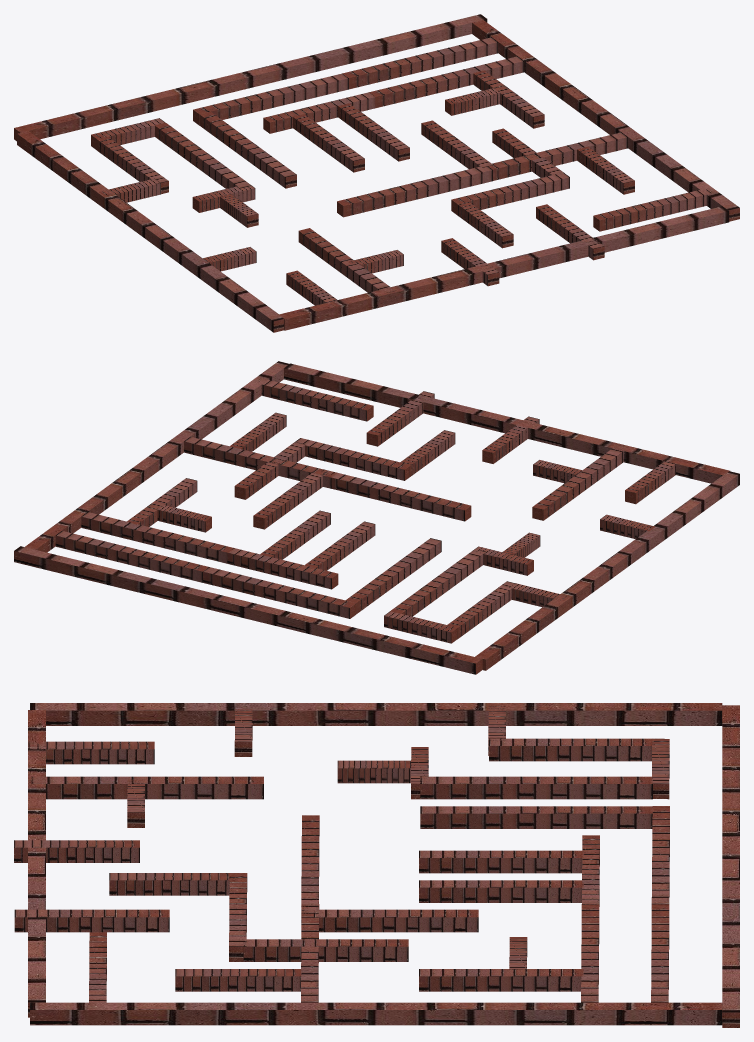
File: maze.obj
3 views of the same model, one above another, from view 1: azimuth 30°, elevation 25°; view 2: azimuth 150°, elevation 25°; view 3: azimuth 270°, elevation 25° (orthographic). The views are drawn at different scales.
Visible parts, largest first — view 1: Cube.005_Cube.007, Cube.002_Cube.007, Cube.003_Cube.007, Cube.001_Cube.007, Cube.018_Cube.007, Cube.004_Cube.007, Cube.006_Cube.007, Cube.008_Cube.007, Cube.007, Cube.012_Cube.007, Cube.014_Cube.007, Cube.013_Cube.007 (+21 smaller); view 2: Cube.005_Cube.007, Cube.002_Cube.007, Cube.003_Cube.007, Cube.001_Cube.007, Cube.006_Cube.007, Cube.004_Cube.007, Cube.008_Cube.007, Cube.018_Cube.007, Cube.012_Cube.007, Cube.014_Cube.007, Cube.030_Cube.007, Cube.009_Cube.007 (+21 smaller); view 3: Cube.001_Cube.007, Cube.003_Cube.007, Cube.005_Cube.007, Cube.022_Cube.007, Cube.007, Cube.030_Cube.007, Cube.002_Cube.007, Cube.021_Cube.007, Cube.024_Cube.007, Cube.017_Cube.007, Cube.019_Cube.007, Cube.010_Cube.007 (+21 smaller).
Boxes of the visible parts, left/top/right/bottom form: Cube.005_Cube.007: left=14, top=14, right=487, bottom=141; Cube.002_Cube.007: left=278, top=206, right=729, bottom=330; Cube.003_Cube.007: left=17, top=131, right=283, bottom=332; Cube.001_Cube.007: left=472, top=20, right=739, bottom=221; Cube.018_Cube.007: left=337, top=166, right=492, bottom=217; Cube.004_Cube.007: left=342, top=37, right=498, bottom=89; Cube.006_Cube.007: left=193, top=73, right=348, bottom=125; Cube.008_Cube.007: left=368, top=56, right=524, bottom=108; Cube.007: left=199, top=111, right=296, bottom=188; Cube.012_Cube.007: left=472, top=132, right=627, bottom=180; Cube.014_Cube.007: left=593, top=189, right=711, bottom=231; Cube.013_Cube.007: left=451, top=172, right=569, bottom=213; Cube.005_Cube.007: left=14, top=546, right=482, bottom=674; Cube.002_Cube.007: left=284, top=363, right=729, bottom=483; Cube.003_Cube.007: left=475, top=471, right=739, bottom=670; Cube.001_Cube.007: left=25, top=361, right=288, bottom=552; Cube.006_Cube.007: left=203, top=567, right=356, bottom=618; Cube.004_Cube.007: left=55, top=531, right=208, bottom=582; Cube.008_Cube.007: left=81, top=512, right=233, bottom=563; Cube.018_Cube.007: left=321, top=469, right=471, bottom=521; Cube.012_Cube.007: left=184, top=436, right=336, bottom=488; Cube.014_Cube.007: left=259, top=380, right=373, bottom=421; Cube.030_Cube.007: left=532, top=445, right=623, bottom=520; Cube.009_Cube.007: left=227, top=548, right=338, bottom=589; Cube.001_Cube.007: left=30, top=1002, right=722, bottom=1025; Cube.003_Cube.007: left=30, top=703, right=722, bottom=725; Cube.005_Cube.007: left=722, top=705, right=739, bottom=1027; Cube.022_Cube.007: left=420, top=776, right=652, bottom=799; Cube.007: left=420, top=806, right=652, bottom=828; Cube.030_Cube.007: left=31, top=776, right=263, bottom=799; Cube.002_Cube.007: left=28, top=710, right=45, bottom=1017; Cube.021_Cube.007: left=419, top=850, right=583, bottom=873; Cube.024_Cube.007: left=489, top=738, right=653, bottom=761; Cube.017_Cube.007: left=313, top=909, right=478, bottom=932; Cube.019_Cube.007: left=419, top=880, right=583, bottom=902; Cube.010_Cube.007: left=419, top=969, right=583, bottom=991.
Bounding box in the file's own units: 20.91 × 0.4809 × 20.73.
